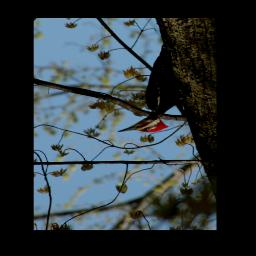Woodpecker: (114, 43, 185, 134)
